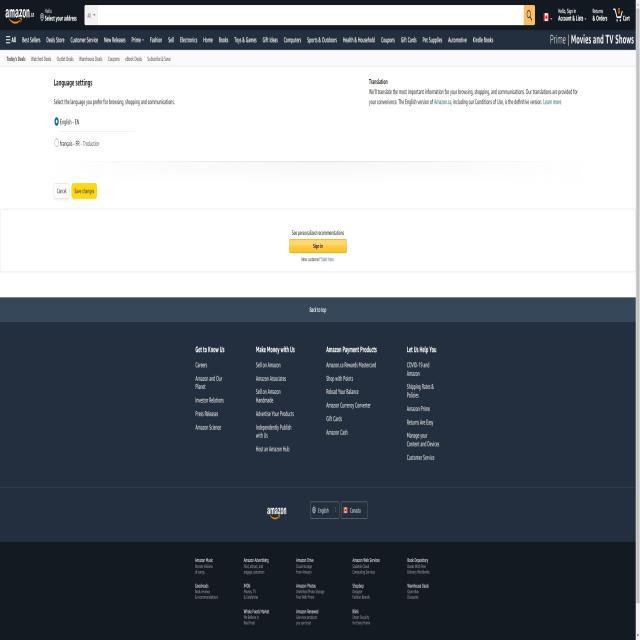menu-bar: (5, 30, 501, 49)
search: (80, 2, 536, 27)
